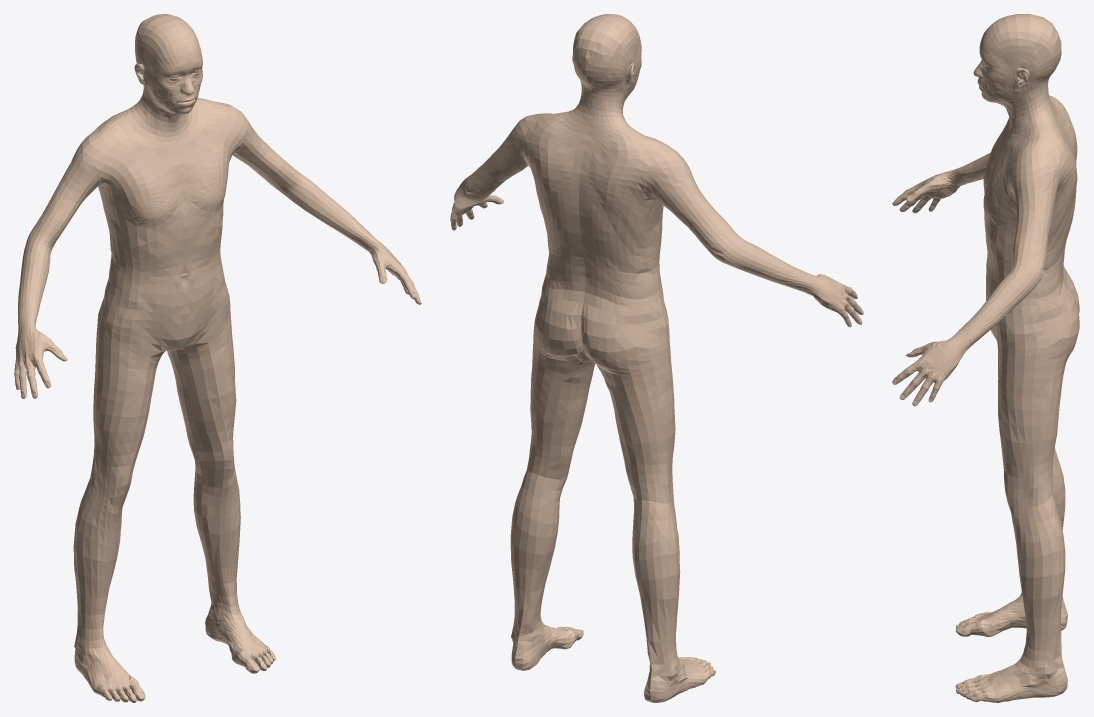
File: male-mature-fit-toned.glb
3 views of the same model, side by side, from view 1: azimuth 30°, elevation 25°; view 2: azimuth 150°, elevation 25°; view 3: azimuth 270°, elevation 25° (orthographic).
Visible parts, largest first — view 1: world; view 2: world; view 3: world.
Boxes of the visible parts, x1,y1,x2,y2 form: world: (14, 14, 421, 702); world: (450, 14, 863, 702); world: (892, 14, 1079, 702).
Bounding box in the file's own units: 1.25 × 1.94 × 0.5099.
